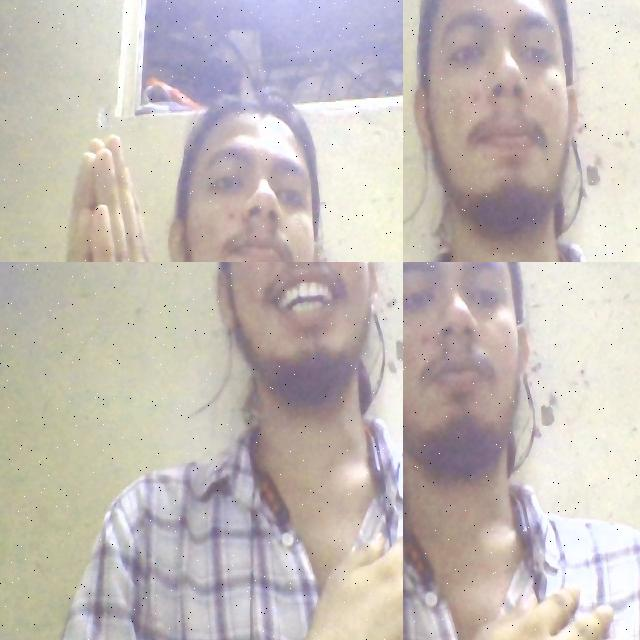I love u: (242, 523, 403, 640), (405, 558, 633, 640)
Thank You: (40, 129, 183, 262)
